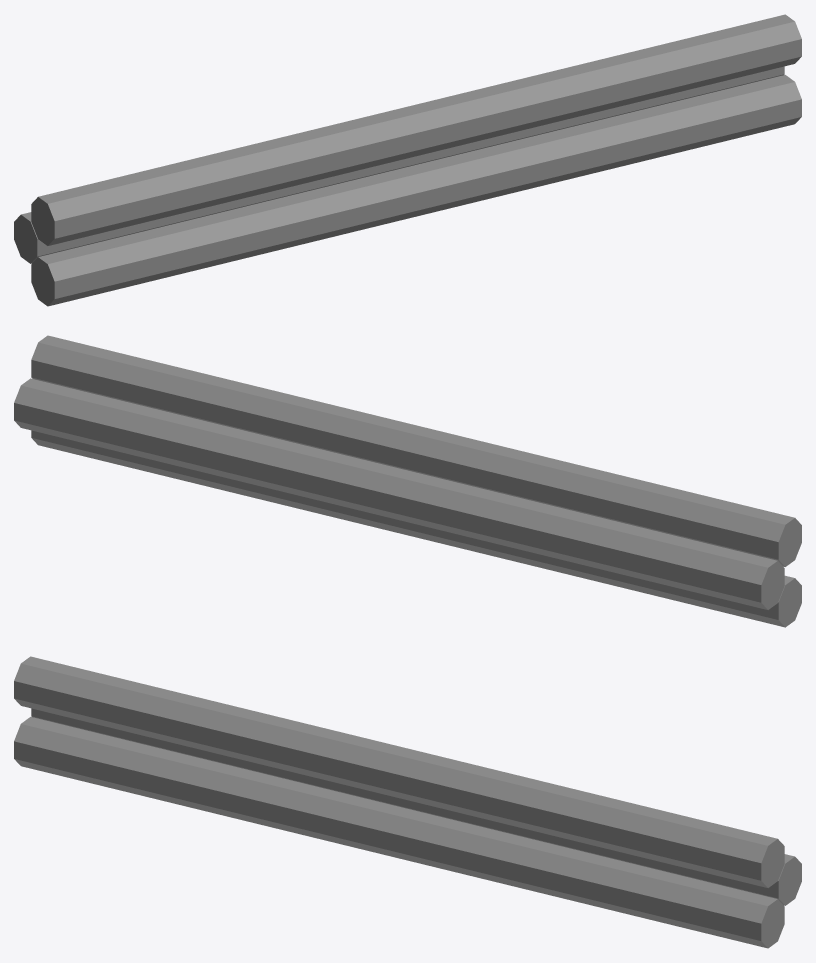
File: construction-tubes.obj
3 views of the same model, one above another, from view 1: azimuth 30°, elevation 25°; view 2: azimuth 150°, elevation 25°; view 3: azimuth 330°, elevation 25° (orthographic).
Parts seen in each view (by area): view 1: construction-tubes_Cube.031; view 2: construction-tubes_Cube.031; view 3: construction-tubes_Cube.031.
Boxes of the visible parts, x1,y1,x2,y2 form: construction-tubes_Cube.031: (14, 14, 801, 306); construction-tubes_Cube.031: (14, 335, 801, 627); construction-tubes_Cube.031: (14, 656, 801, 948).
Bounding box in the file's own units: 5.84 × 0.7673 × 0.55.
